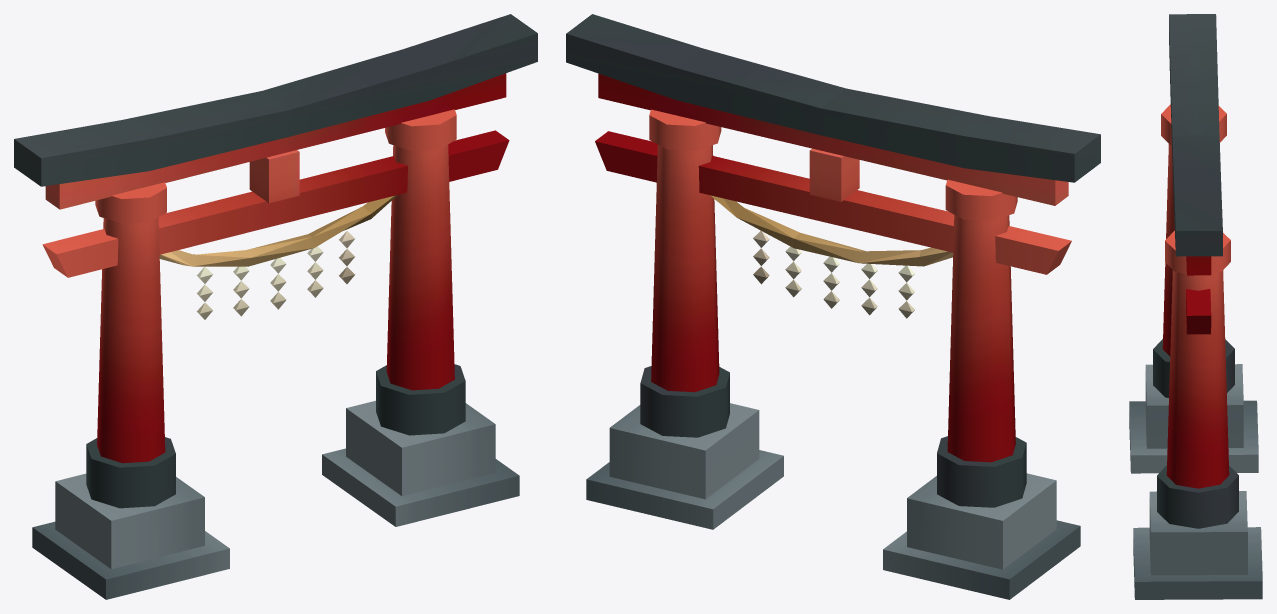
The model's file is garden_arch.glb.
3 views of the same model, side by side, from view 1: azimuth 30°, elevation 25°; view 2: azimuth 150°, elevation 25°; view 3: azimuth 270°, elevation 25° (orthographic). The views are drawn at different scales.
Visible parts, largest first — view 1: garden_arch; view 2: garden_arch; view 3: garden_arch.
Boxes of the visible parts, box(x1,y1,x2,y2) form: garden_arch: box(14, 14, 537, 599); garden_arch: box(566, 14, 1100, 599); garden_arch: box(1129, 14, 1262, 599).
Bounding box in the file's own units: 5.15 × 4.28 × 1.34.
1 material, 1 textured.
